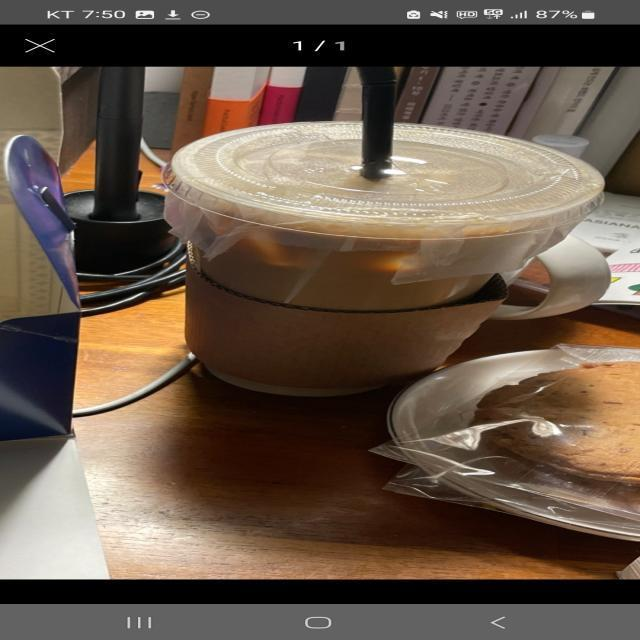cup: (162, 120, 626, 386)
